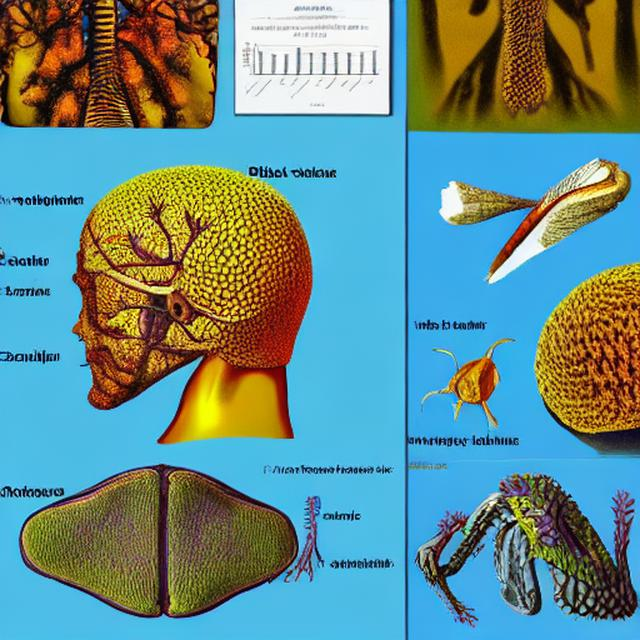Graph: (235, 23, 383, 110)
